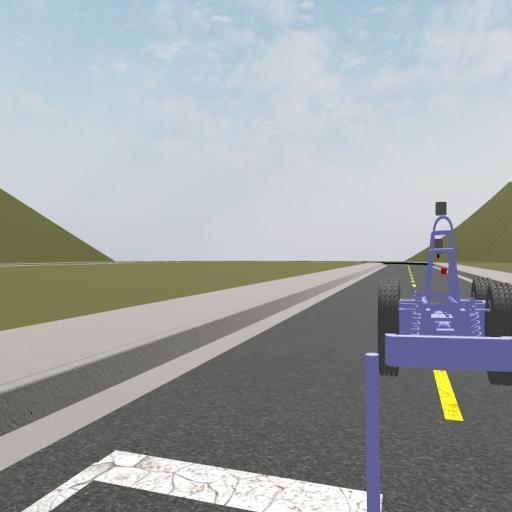ERP-42: (378, 199, 512, 381)
